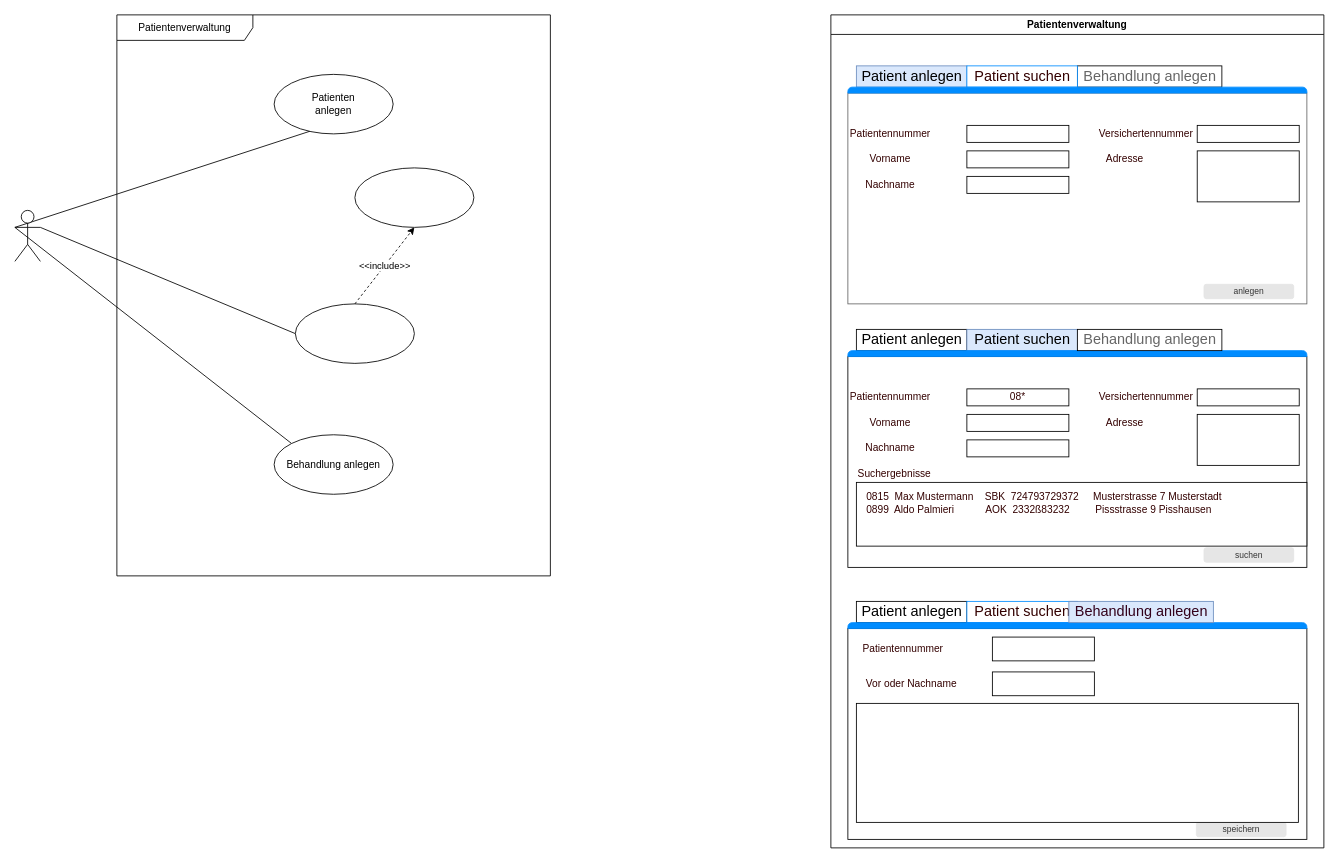
Some shapes in this 1339 by 863 pixel diagram are drawn without their labels. The centre of each missing label's shape, as x and y in pixels:
"Arzt" belongs at (27,235).
"FLießtext wie es dem Patient geht im geht es schlechter er ist bald tot Das wars" belongs at (1077,762).
"Patienten suchen" belongs at (414,197).
"Patientendaten anzeigen" belongs at (354,333).
